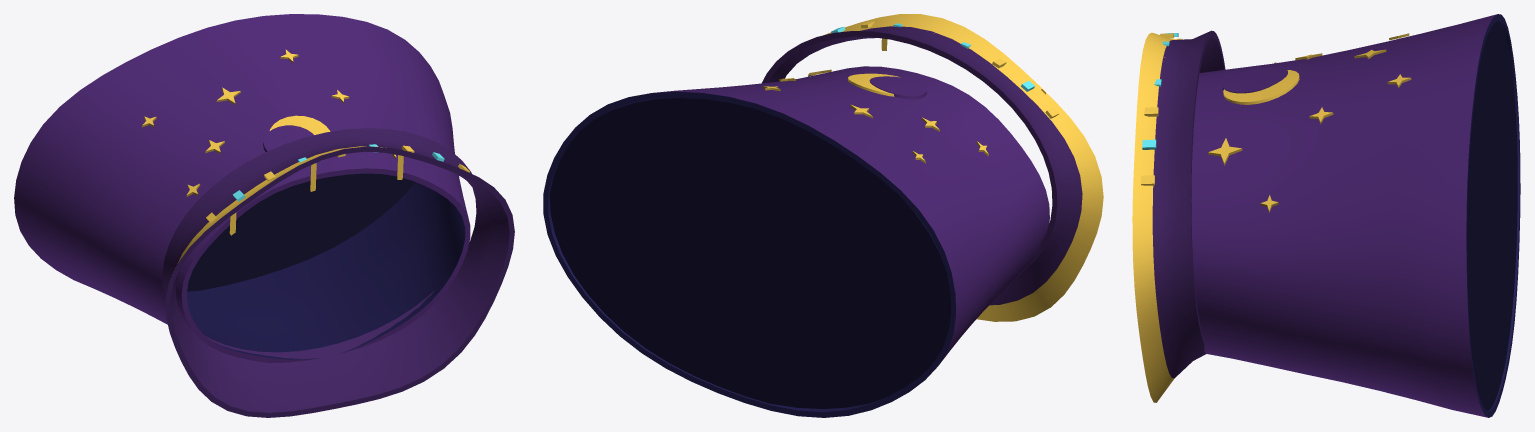
File: Sleeve_Mage.fbx
The picture shows the model from 3 angles, left to right: view 1: azimuth 30°, elevation 25°; view 2: azimuth 150°, elevation 25°; view 3: azimuth 270°, elevation 25°; orthographic projection. The views are drawn at different scales.
Visible parts, largest first — view 1: Sleeve_Mage; view 2: Sleeve_Mage; view 3: Sleeve_Mage.
Boxes of the visible parts, x1=… form: Sleeve_Mage: x1=14, y1=14, x2=514, y2=417; Sleeve_Mage: x1=543, y1=14, x2=1103, y2=417; Sleeve_Mage: x1=1132, y1=14, x2=1520, y2=417.
Size of the model in its own units: 1.16 by 0.762 by 0.8025.
Materials: 1 (1 with a texture image).
